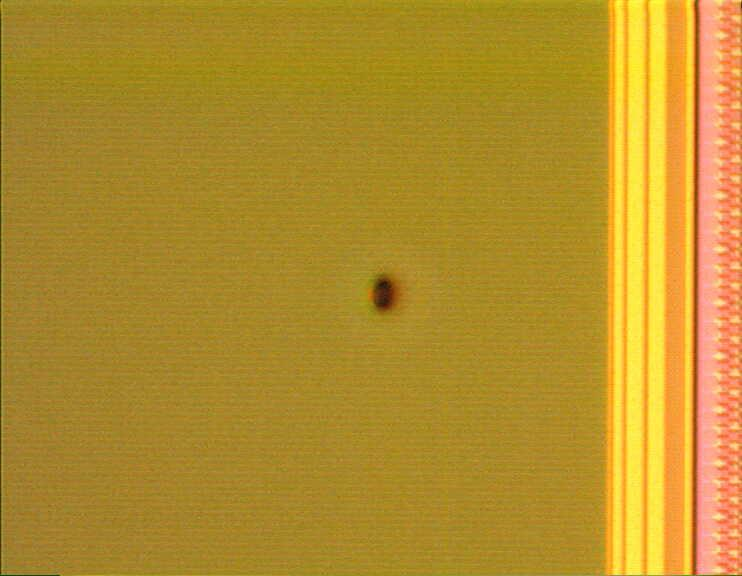PIQ PARTICLE: (362, 270, 408, 322)
